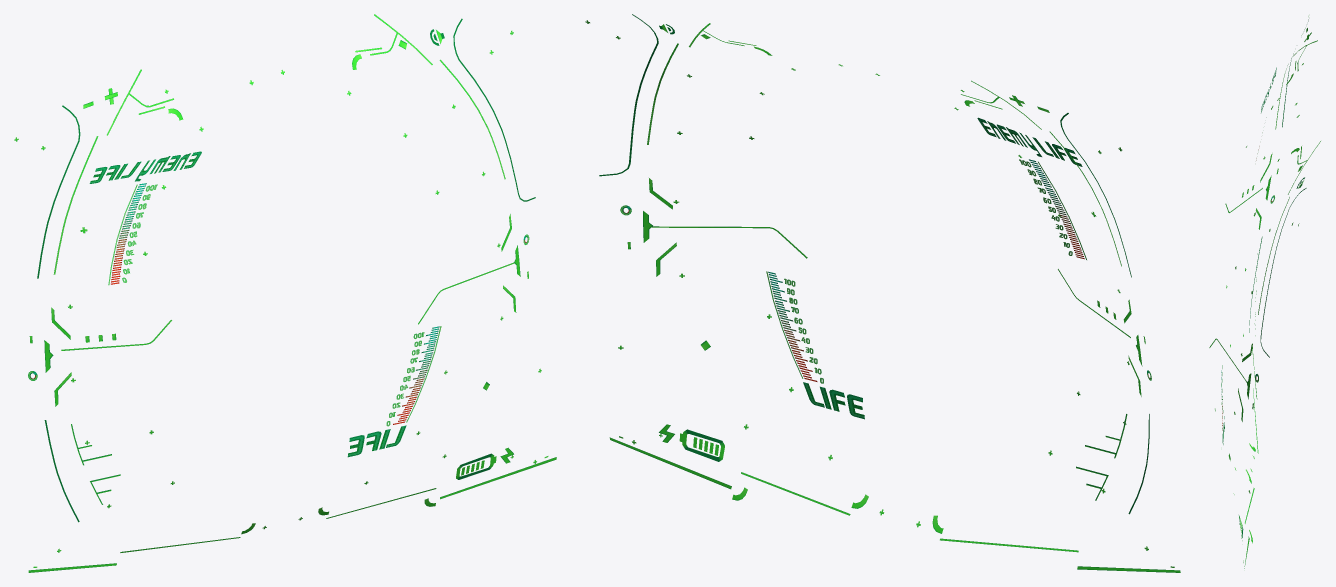
The picture shows the model from 3 angles, left to right: view 1: azimuth 30°, elevation 25°; view 2: azimuth 150°, elevation 25°; view 3: azimuth 270°, elevation 25°; orthographic projection. The views are drawn at different scales.
Parts seen in each view (by area): view 1: Big_Menu, Enemy_life_text1, Text_menu; view 2: Big_Menu, Enemy_life_text1, Text_menu; view 3: Big_Menu.
Boxes of the visible parts, box(x1,y1,x2,y2) form: Big_Menu: box(14, 14, 556, 572); Enemy_life_text1: box(89, 151, 201, 285); Text_menu: box(347, 326, 441, 457); Big_Menu: box(585, 14, 1180, 572); Enemy_life_text1: box(977, 117, 1086, 259); Text_menu: box(766, 271, 864, 419); Big_Menu: box(1209, 16, 1320, 568).
Bounding box in the file's own units: 2.91 × 2.5 × 0.6389.
2 materials, 2 textured.
